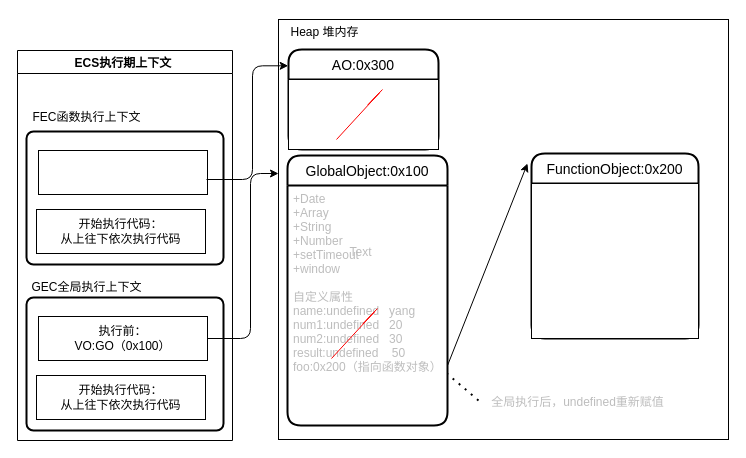
Image size: 746x458. Some labels were removed from this diagram. The shapes that lost their labels are listed below. From the top down, each one's centre as x and y in pixels, then its label:
the point at 363,114: name:undefined foo
the point at 123,172: 执行前： VO:AO（0x300）
the point at 614,260: function foo(){ var name='foo' console.log(name) }
